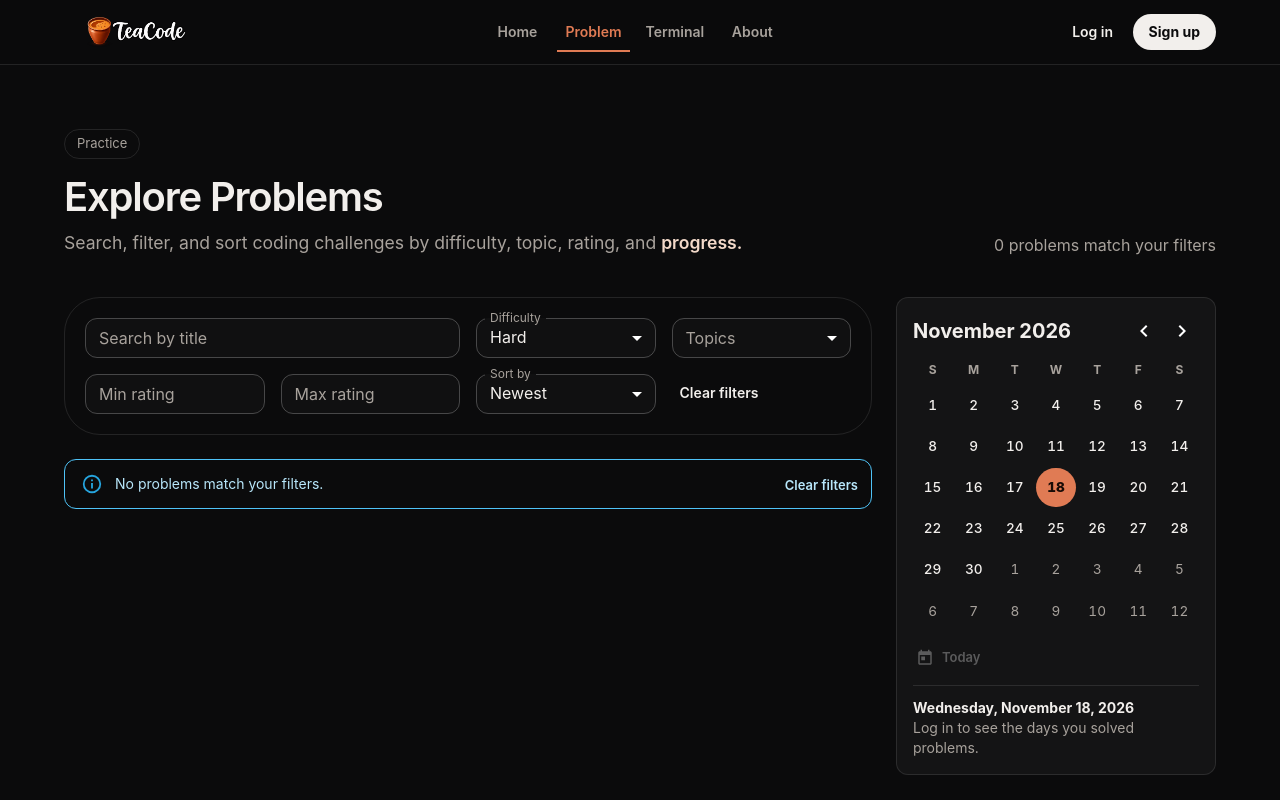
problem list › explains empty filtered results and clears filters
Check: the text "No problems match your filters." is shown, box [115,475,323,492]
What coordinates should you click on to do the following:
click the button "Clear filters" next to "Newest"
I would click on:
 (719, 394)
Its box is [672,374,766,414].
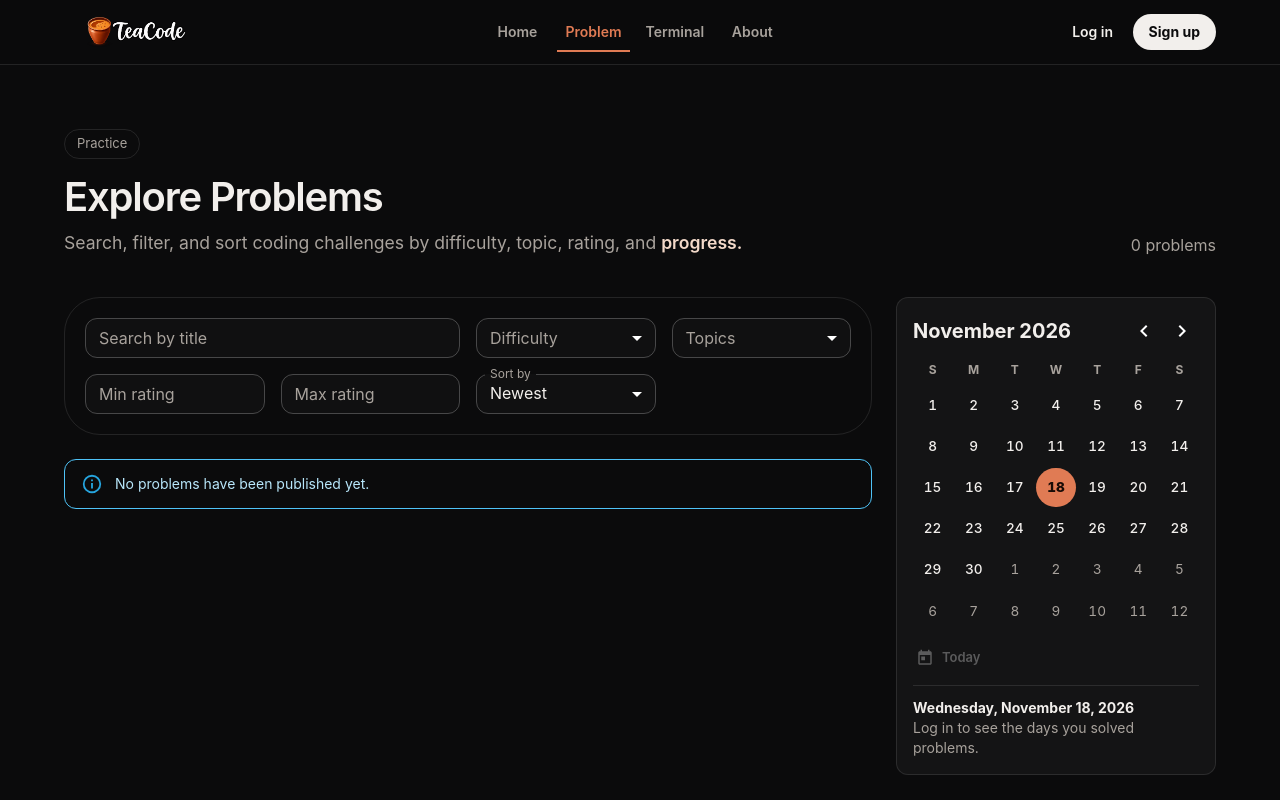
Check: the text "No problems have been published yet." is shown, box [115,475,369,492]
